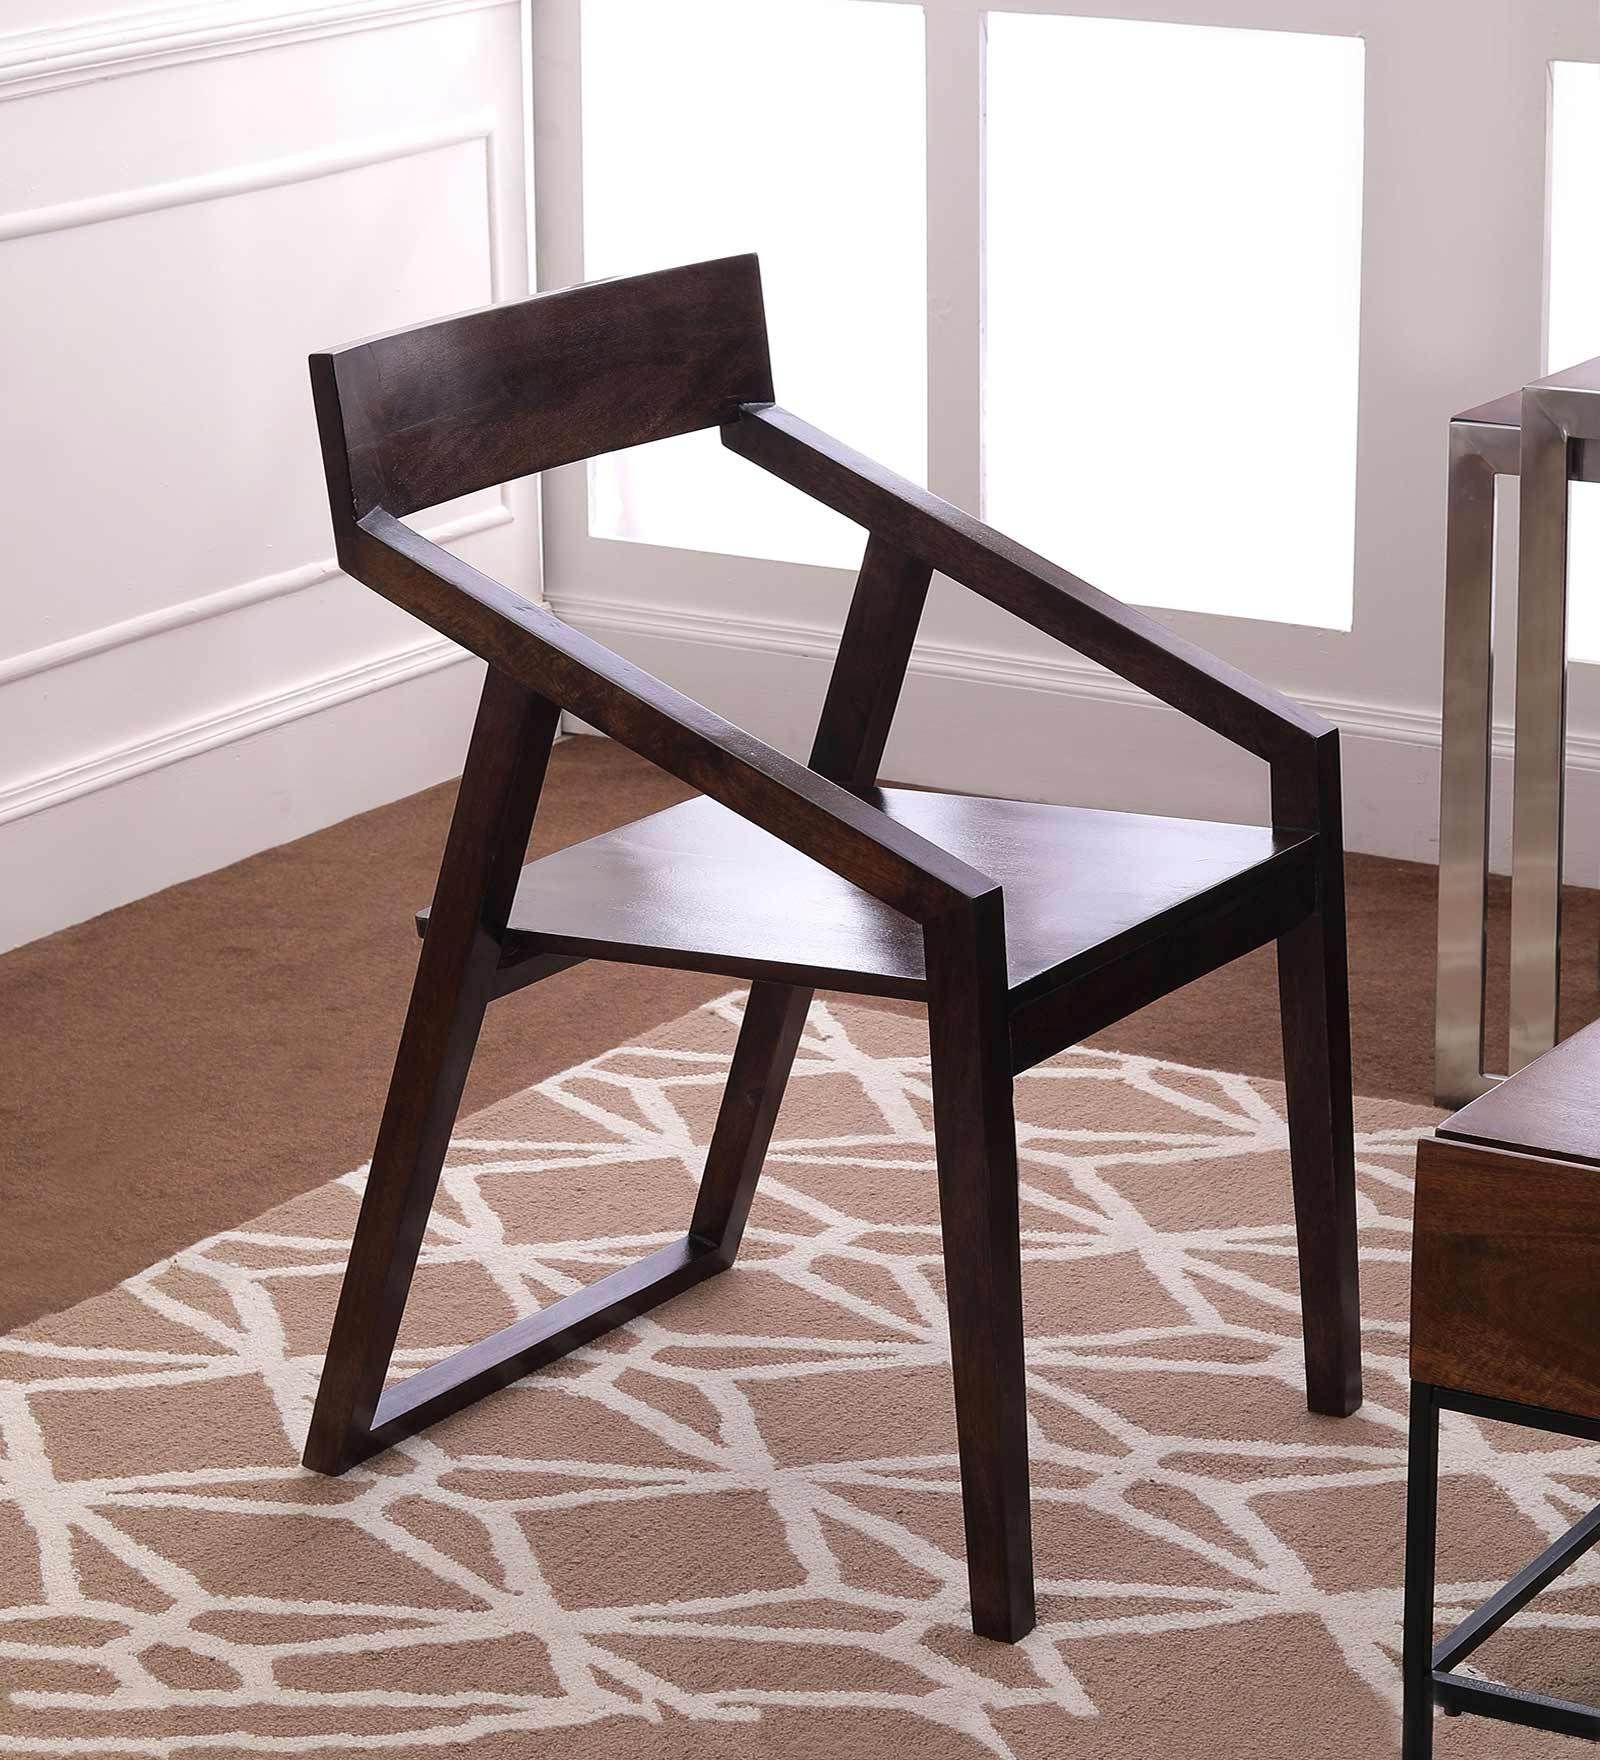Dulwich Solid Wood Arm Chair in Provincial Teak Finish by TheArmchair: (196, 228, 1385, 1657)
